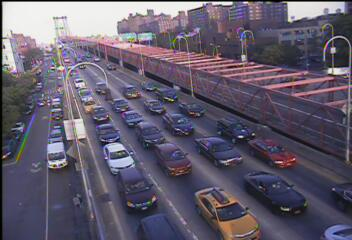neg: (24, 51, 36, 68), (302, 51, 313, 67)
